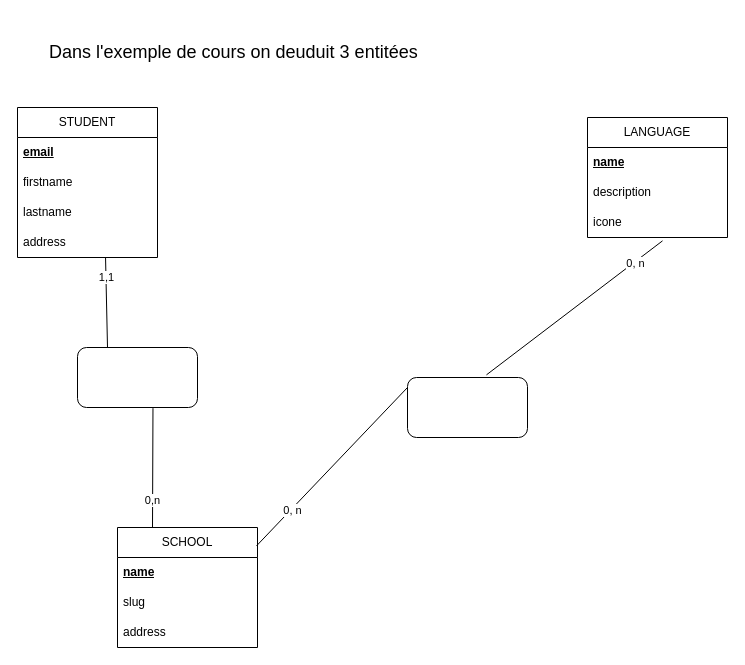
This 745x665 diagram has some shape labels left out. The centre of each missing label's shape, as x and y in pixels:
"HAVE" goes at [137,377].
"Teach" goes at [467,407].
